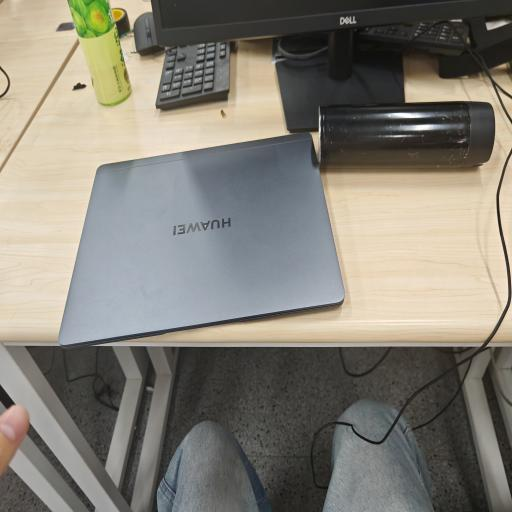laptop: (59, 134, 344, 346)
mouse: (133, 12, 163, 56)
